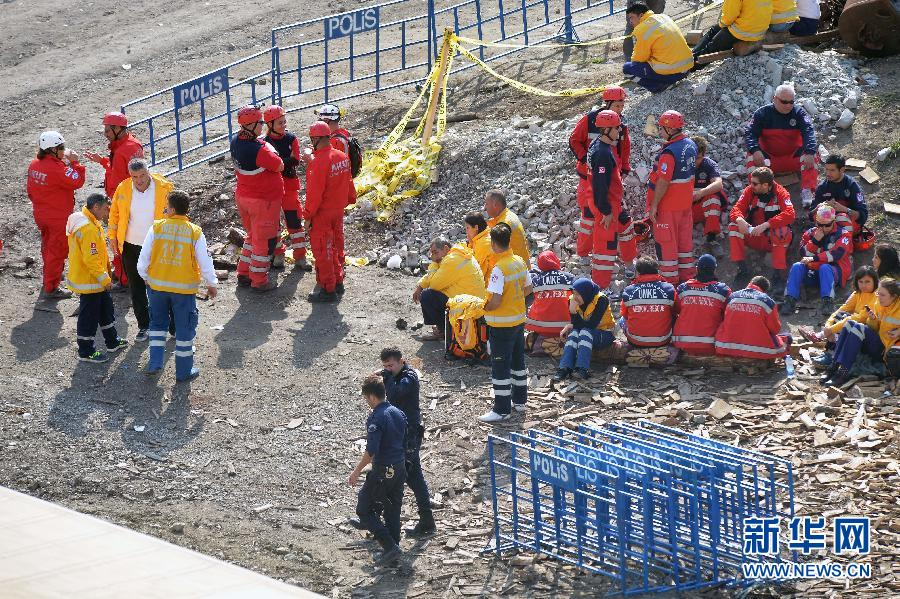helmet: (33, 120, 72, 162), (594, 110, 639, 141), (97, 106, 134, 141), (232, 100, 264, 137), (262, 99, 292, 133), (656, 110, 685, 142), (307, 121, 335, 148)
